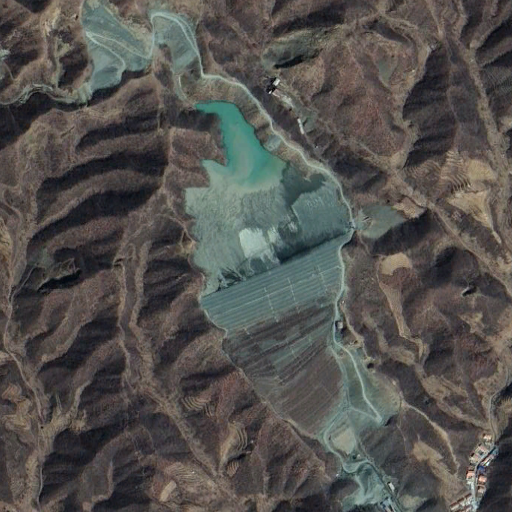tp: (181, 101, 355, 434)
